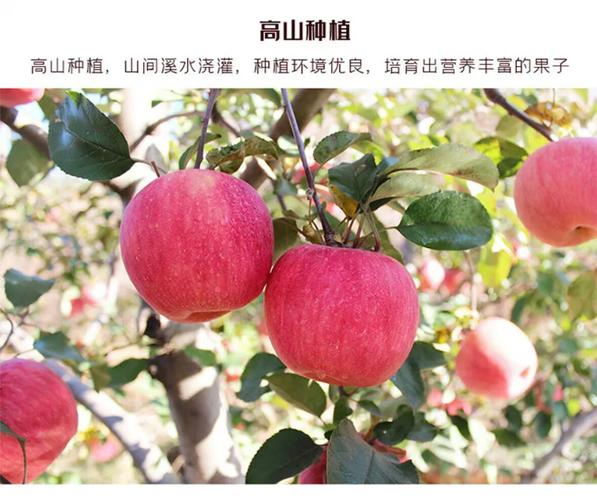ripe: (112, 167, 273, 323), (267, 241, 426, 393), (0, 355, 92, 486), (511, 130, 597, 249), (454, 314, 542, 399)
